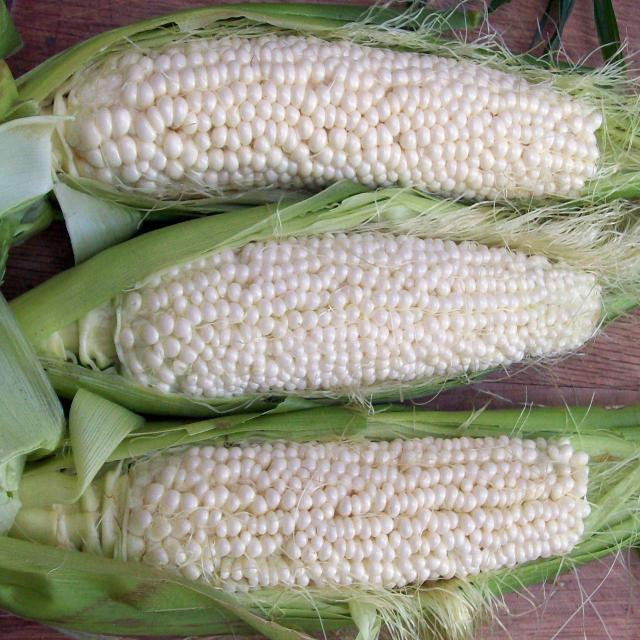corn: (72, 29, 605, 196), (122, 231, 606, 388), (123, 436, 590, 584)
